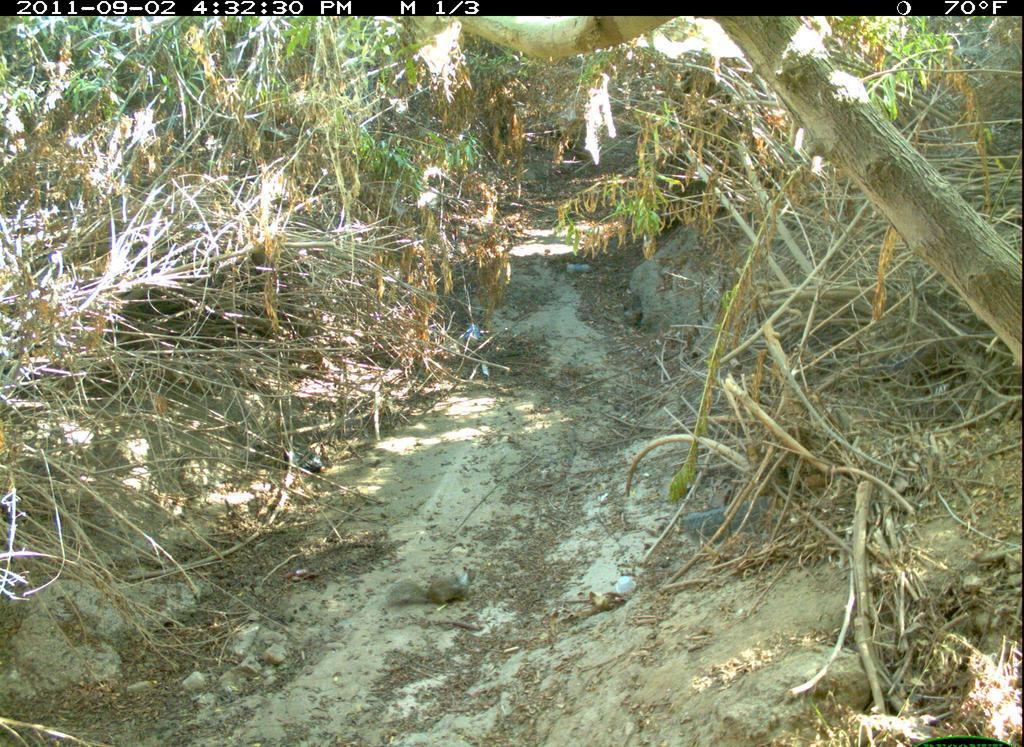squirrel: (379, 560, 486, 612)
